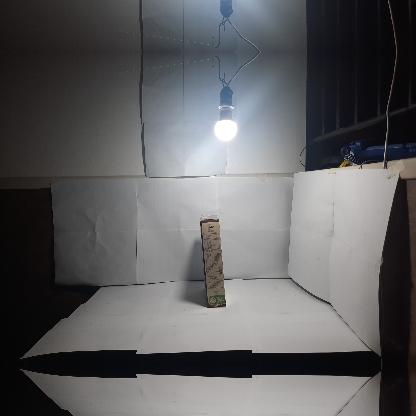Koko-Krunch: (200, 214, 226, 308)
